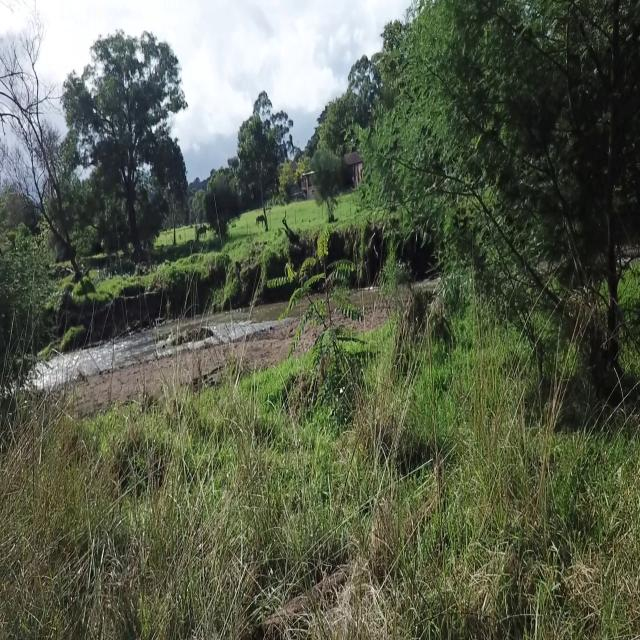Mysore-Thorn-Weed: (258, 222, 374, 417)
